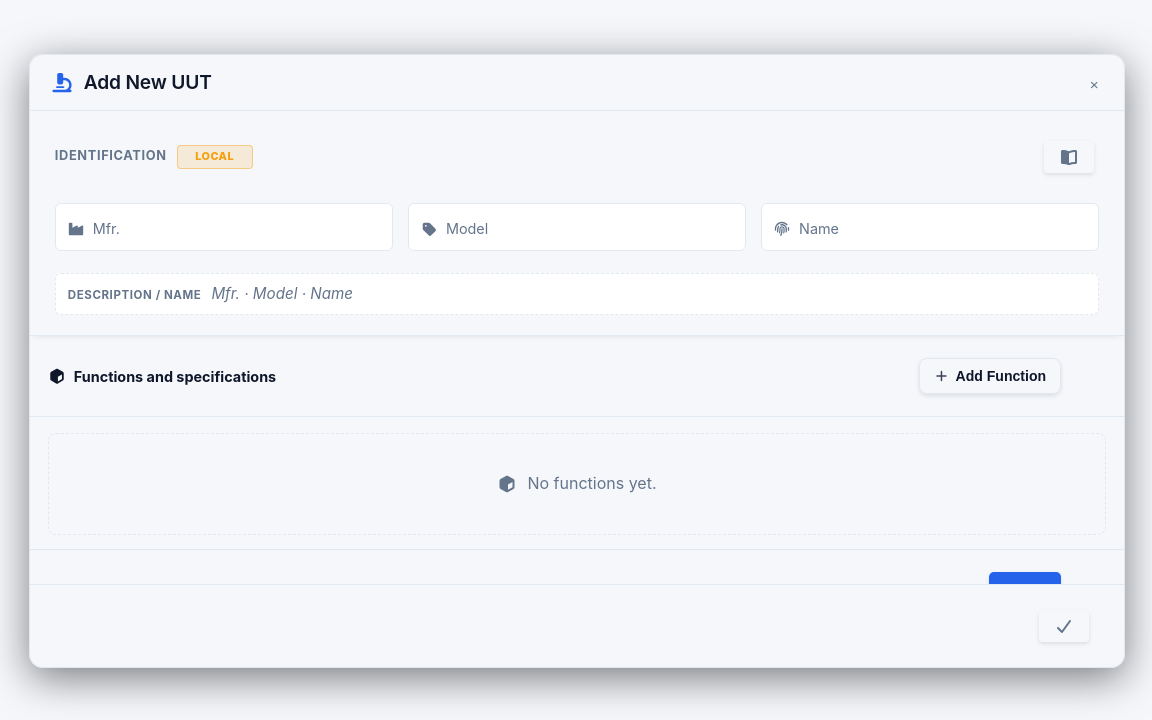
Test: UniversalInstrumentModal library synchronization › shows missing required fields when save is attempted
Click the button named "Save configuration": (1064, 626) left=1039, top=610, right=1089, bottom=642
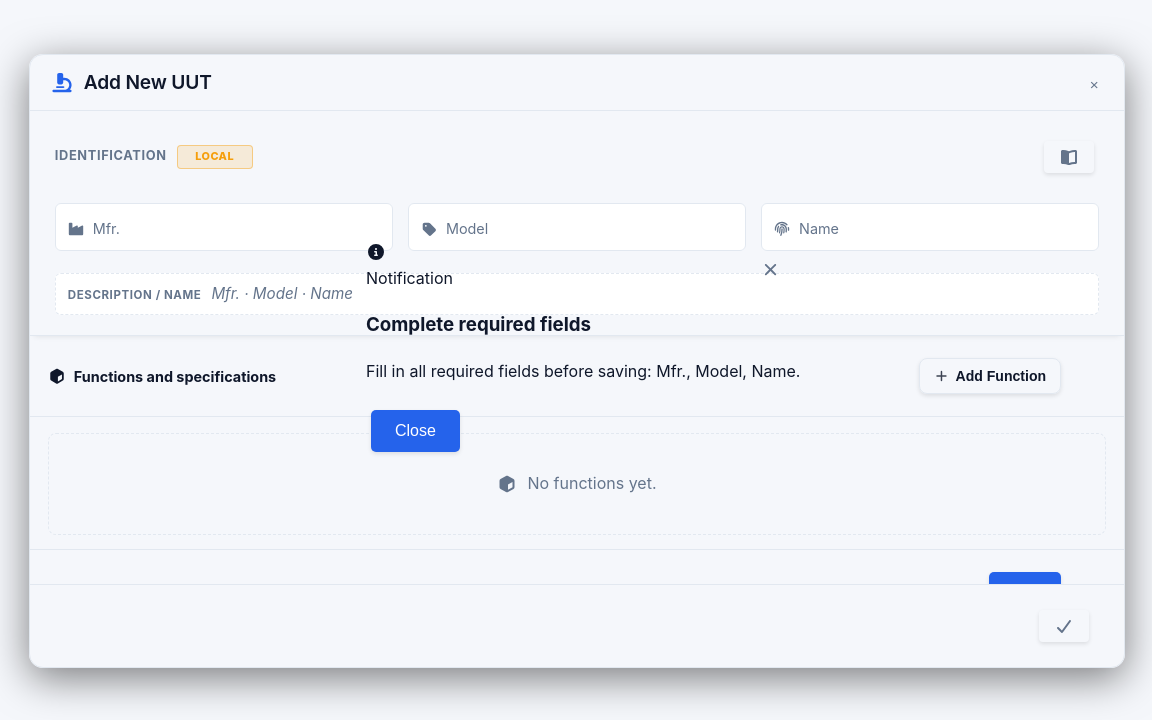
Now the dialog "Complete required fields" shows "Mfr., Model, Name", box left=366, top=361, right=800, bottom=381
